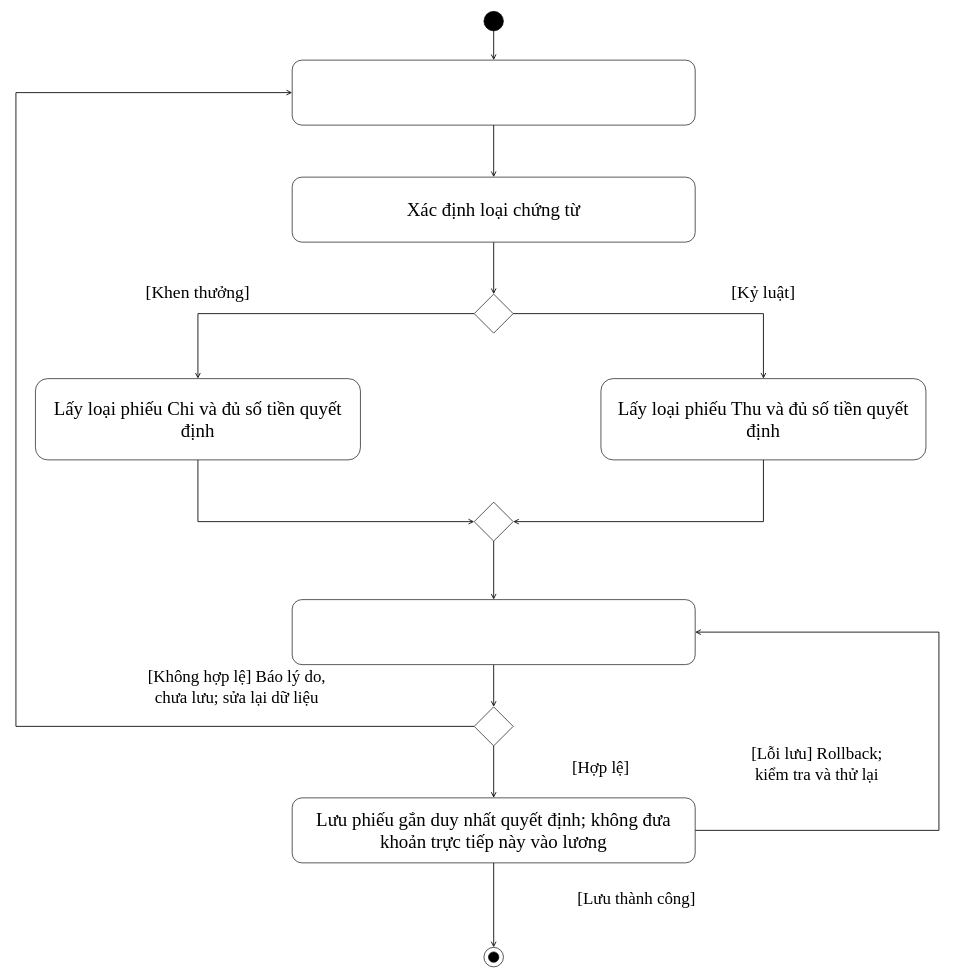
This 956x978 diagram has some shape labels left out. Each missing label, with the centre of its shape:
Chọn quyết định Đã ký, cách Trực tiếp, chưa có phiếu: the point at 493,92
Kiểm tra lại quyết định, số phiếu, ngày lập, đúng tiền và chưa thanh toán: the point at 493,632
